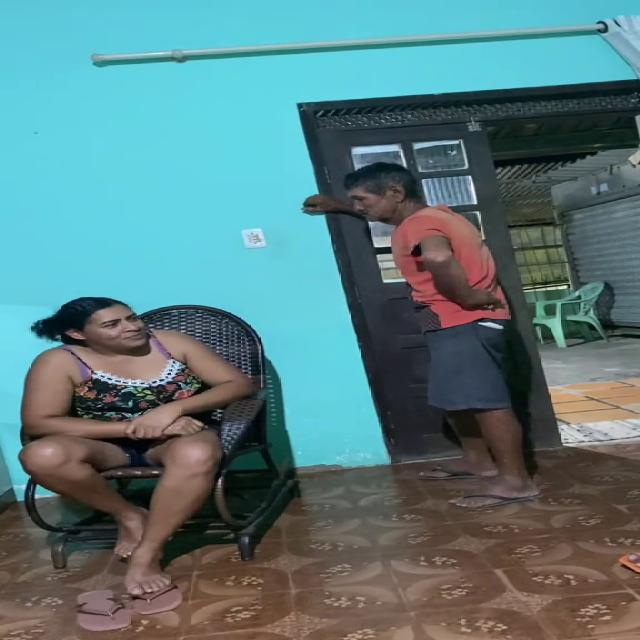em_pe: (366, 174, 529, 491)
sentado: (21, 296, 241, 614)
